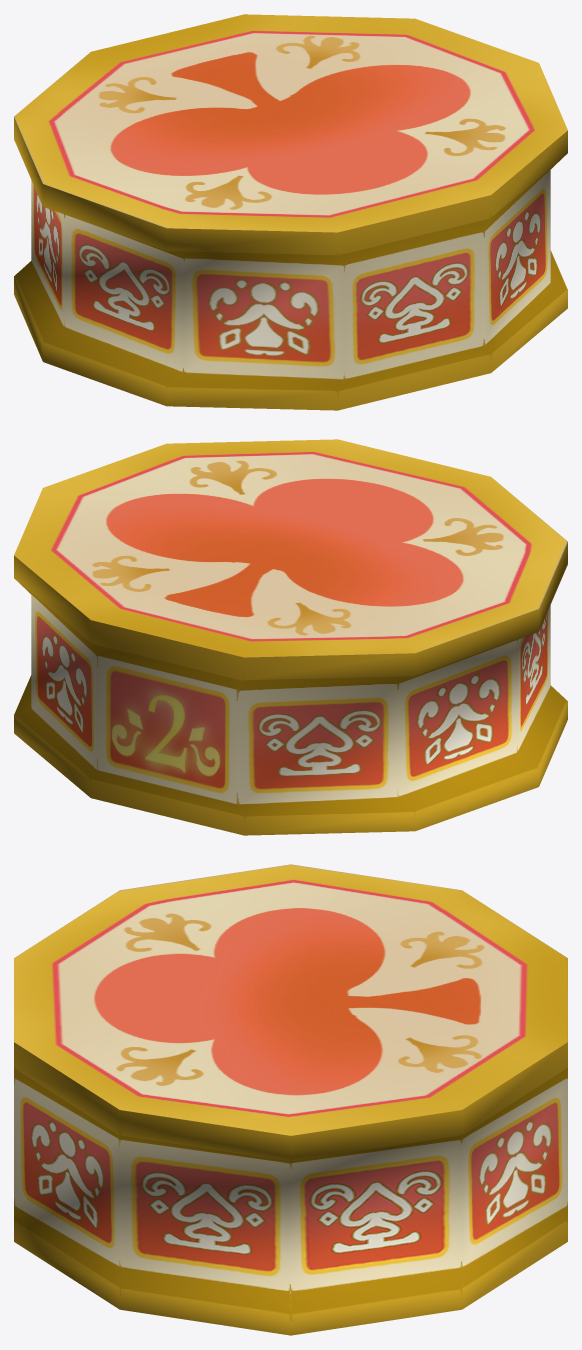
The model's file is LAward2.fbx.
3 renders of one model, top to bottom at view 1: azimuth 30°, elevation 25°; view 2: azimuth 150°, elevation 25°; view 3: azimuth 270°, elevation 25°, orthographic. The views are drawn at different scales.
Parts seen in each view (by area): view 1: Award2; view 2: Award2; view 3: Award2.
Part boxes in pixels (left/top/right/bottom): Award2: left=14, top=14, right=567, bottom=410; Award2: left=14, top=439, right=567, bottom=835; Award2: left=14, top=864, right=567, bottom=1335.
Bounding box in the file's own units: 103 × 35.26 × 88.65.
